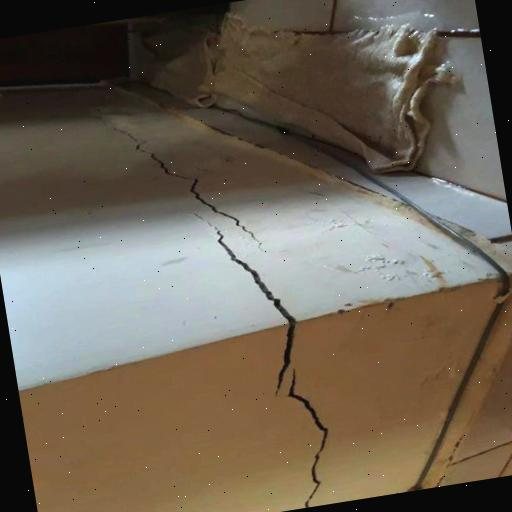spalling: (205, 228, 338, 508), (128, 138, 265, 252)
